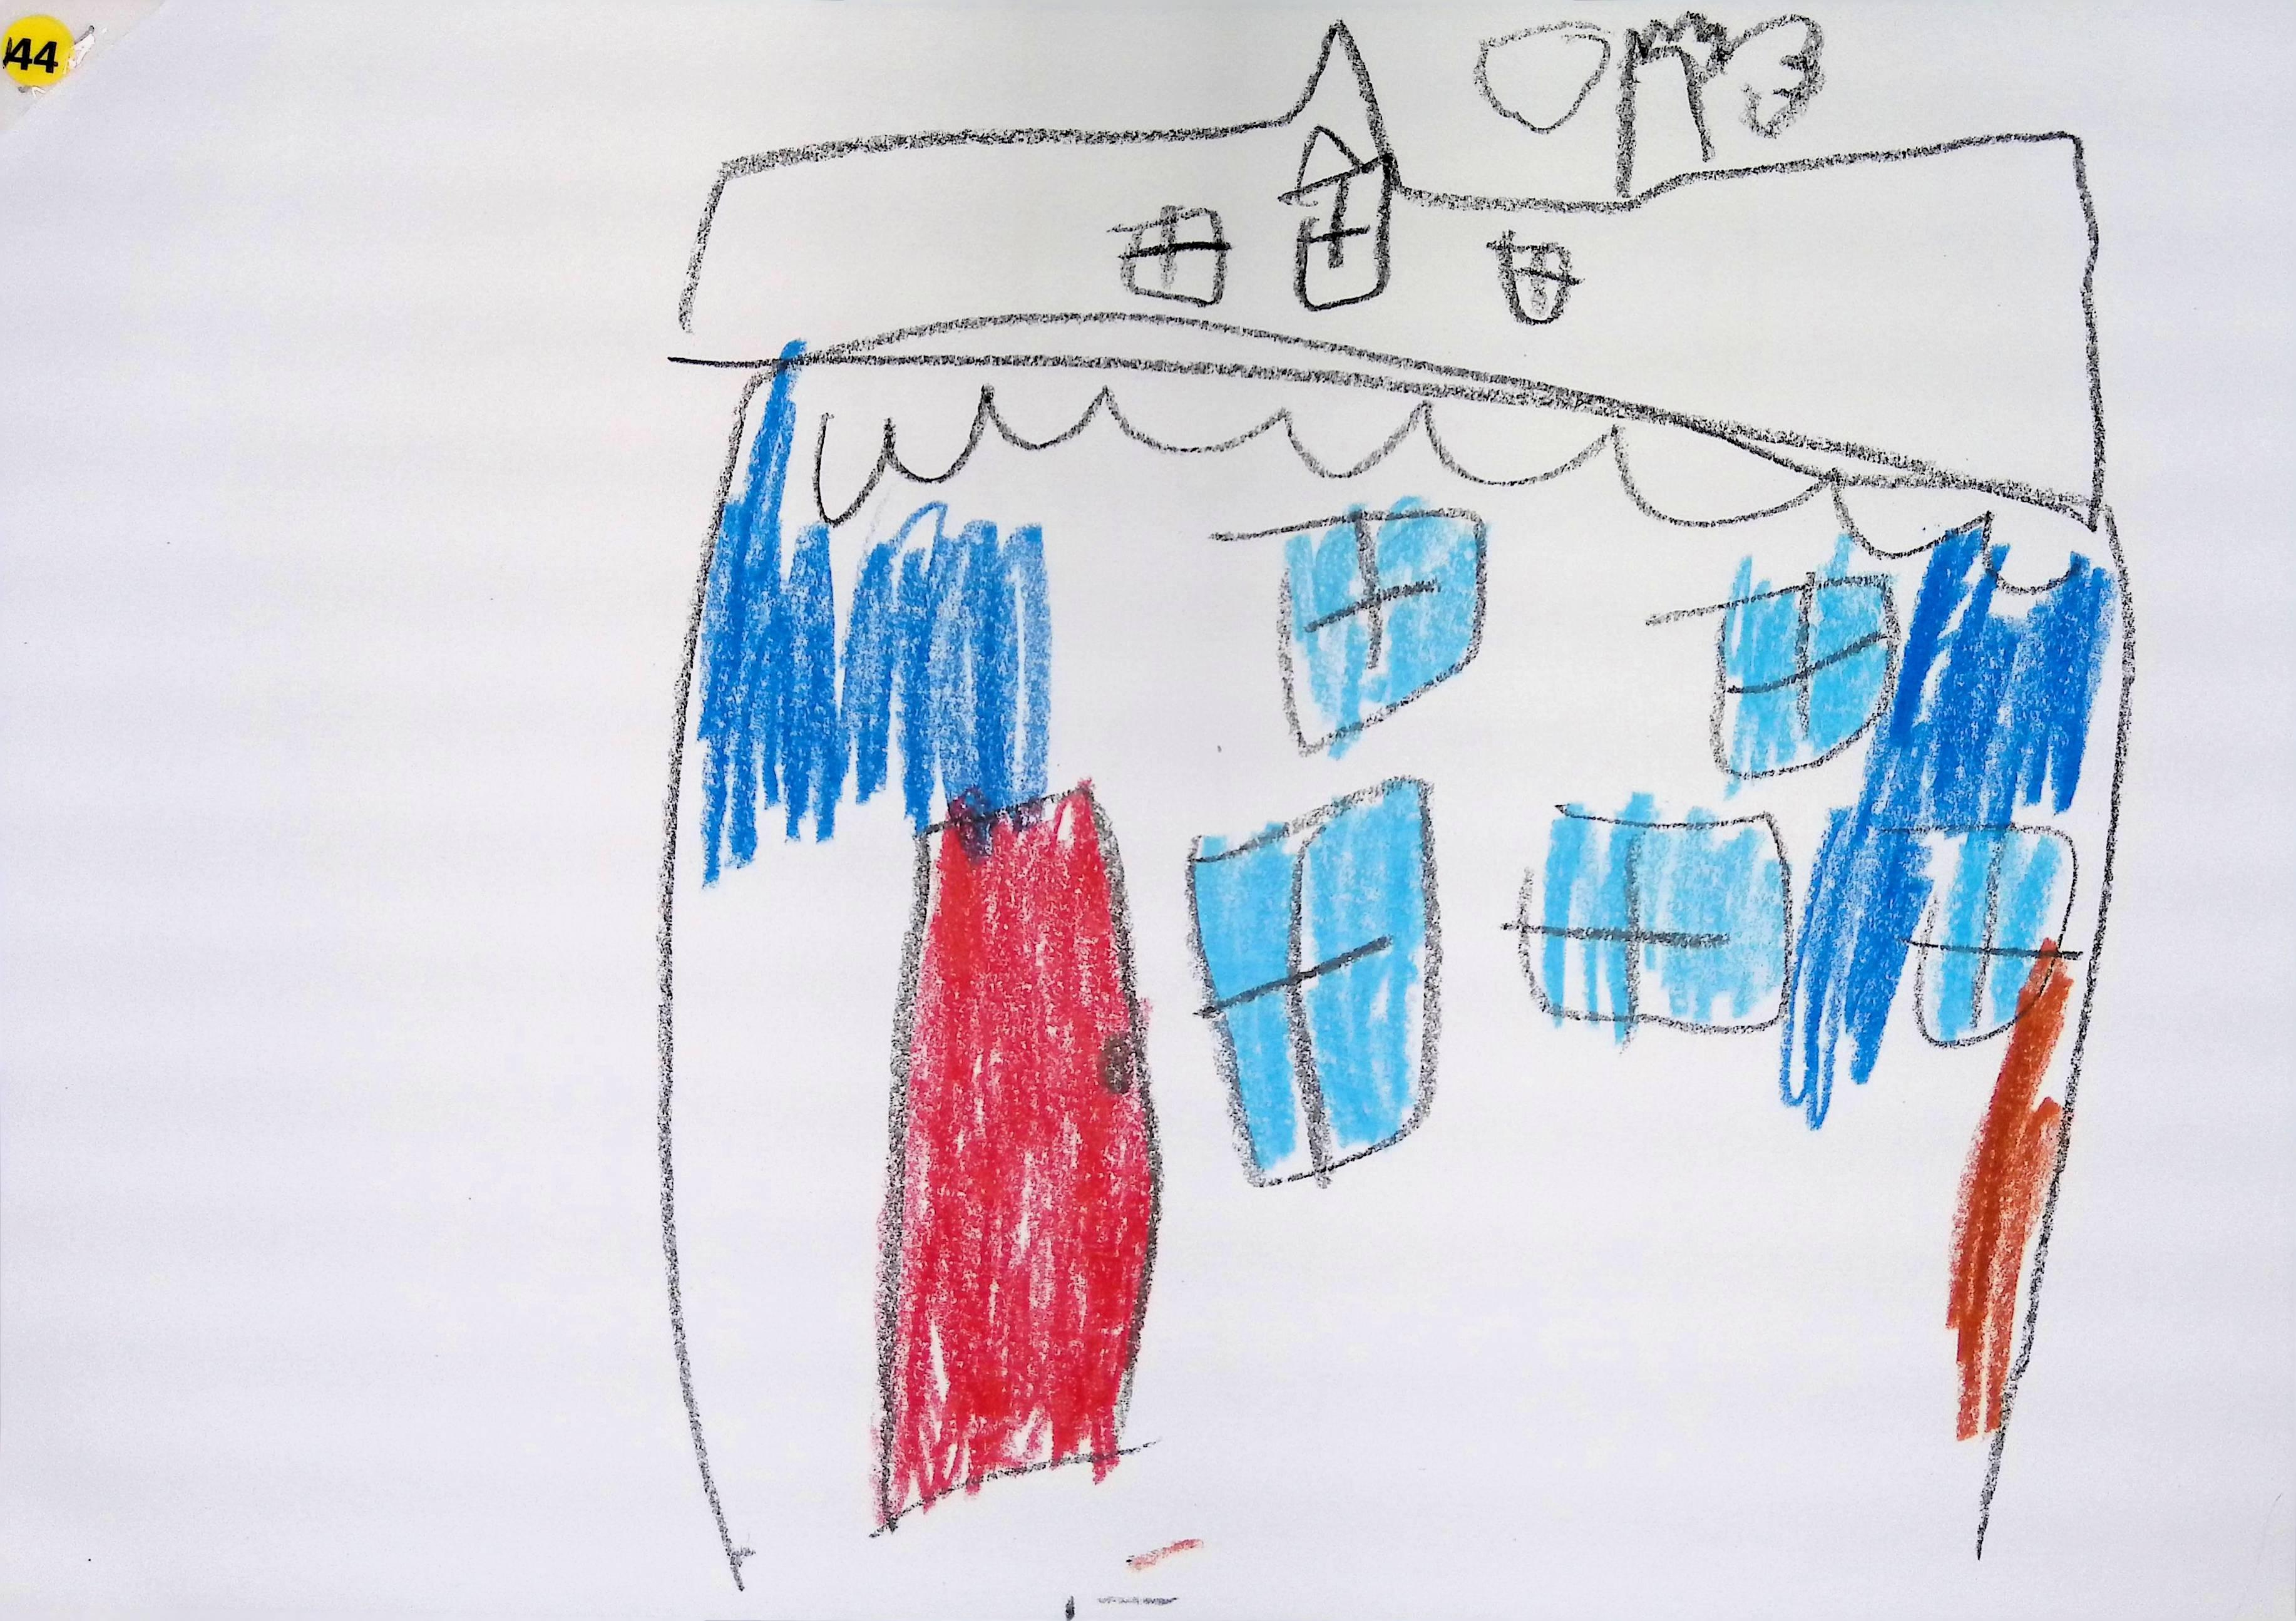chimney: (1610, 42, 1728, 207)
door: (877, 784, 1158, 1530)
house: (637, 5, 2156, 1621)
roof: (675, 18, 2119, 530)
wall: (651, 361, 2135, 1621)
window: (1189, 777, 1440, 1186), (1522, 793, 1791, 1040), (1275, 495, 1487, 754), (1715, 533, 1901, 777), (1917, 826, 2080, 1046), (1282, 123, 1394, 307), (1112, 204, 1230, 302), (1489, 228, 1582, 321)
